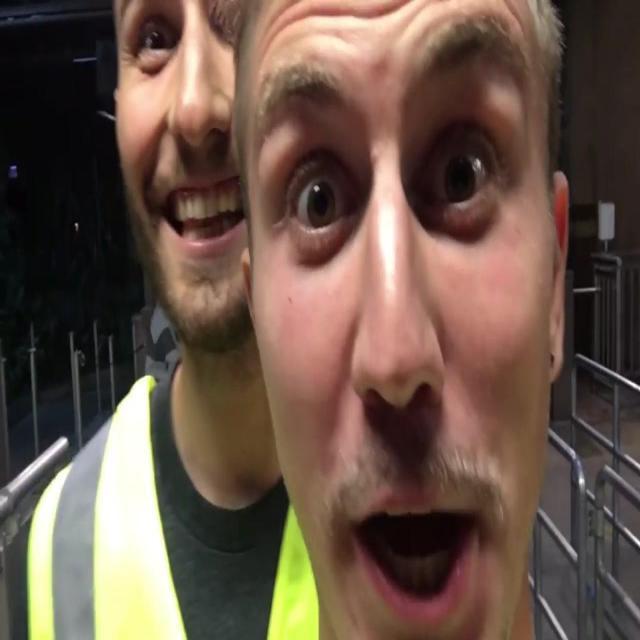Vest: (27, 370, 320, 639)
